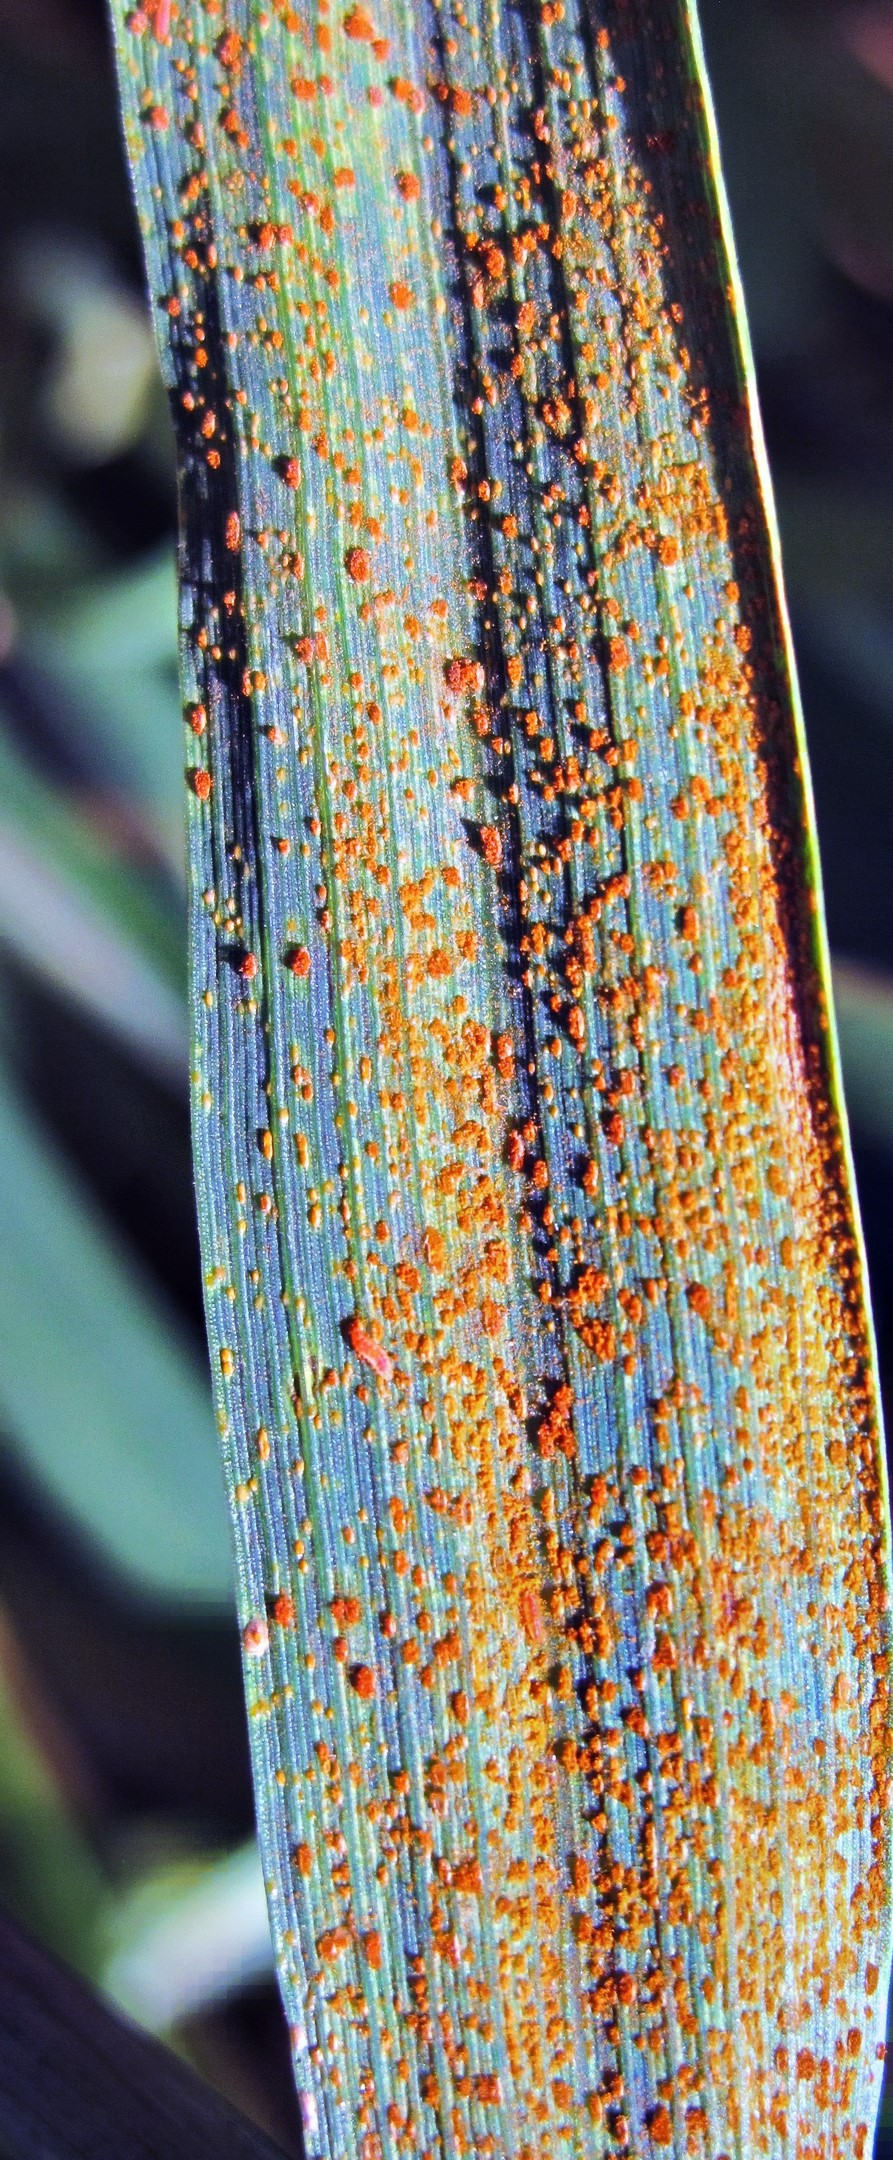Leaf Rust: (80, 94, 893, 2101)
